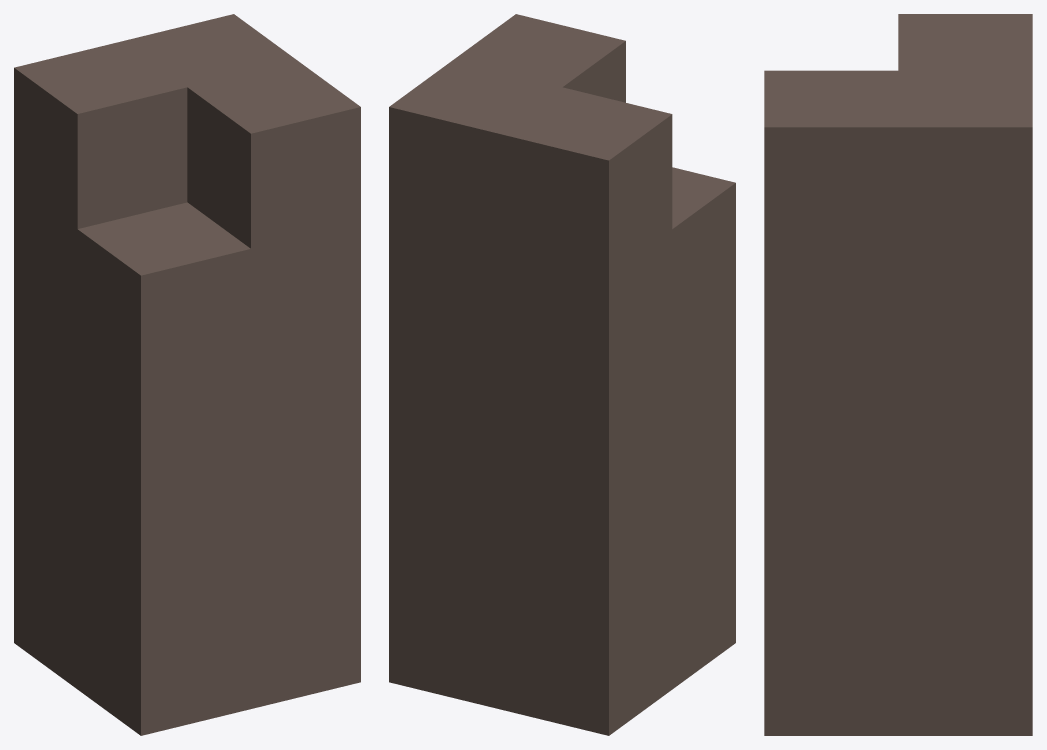
File: lamb__leg_bl.glb
3 renders of one model, left to right at view 1: azimuth 30°, elevation 25°; view 2: azimuth 150°, elevation 25°; view 3: azimuth 270°, elevation 25°, orthographic. The views are drawn at different scales.
Parts seen in each view (by area): view 1: lamb__leg_bl; view 2: lamb__leg_bl; view 3: lamb__leg_bl.
Boxes of the visible parts, left/top/right/bottom form: lamb__leg_bl: left=14, top=14, right=360, bottom=735; lamb__leg_bl: left=389, top=14, right=735, bottom=735; lamb__leg_bl: left=764, top=14, right=1032, bottom=735.
Size of the model in its own units: 0.2 by 0.5 by 0.2.
Materials: 1 (1 with a texture image).
